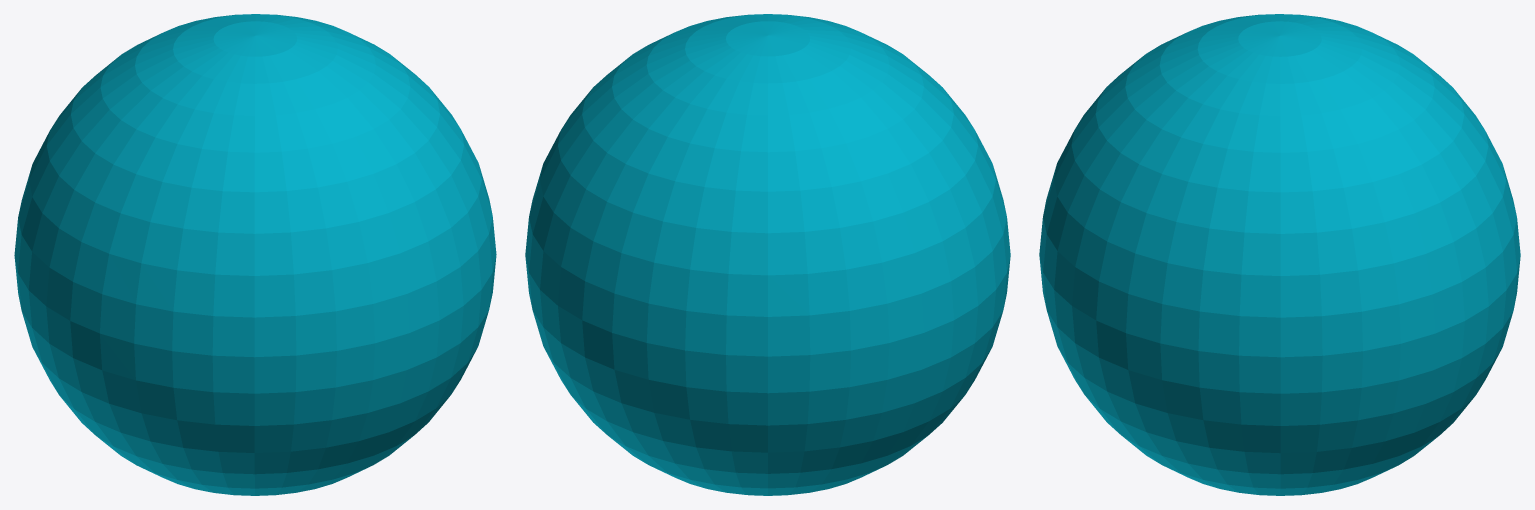
File: Copy of The Earth.glb
3 renders of one model, left to right at view 1: azimuth 30°, elevation 25°; view 2: azimuth 150°, elevation 25°; view 3: azimuth 270°, elevation 25°, orthographic.
Visible parts, largest first — view 1: Mesh_Mesh_head_geo.001_lambert2SG.001; view 2: Mesh_Mesh_head_geo.001_lambert2SG.001; view 3: Mesh_Mesh_head_geo.001_lambert2SG.001.
Part boxes in pixels (left/top/right/bottom): Mesh_Mesh_head_geo.001_lambert2SG.001: left=14, top=14, right=496, bottom=495; Mesh_Mesh_head_geo.001_lambert2SG.001: left=525, top=14, right=1010, bottom=495; Mesh_Mesh_head_geo.001_lambert2SG.001: left=1039, top=14, right=1520, bottom=495.
Bounding box in the file's own units: 0.1835 × 0.1834 × 0.1825.
